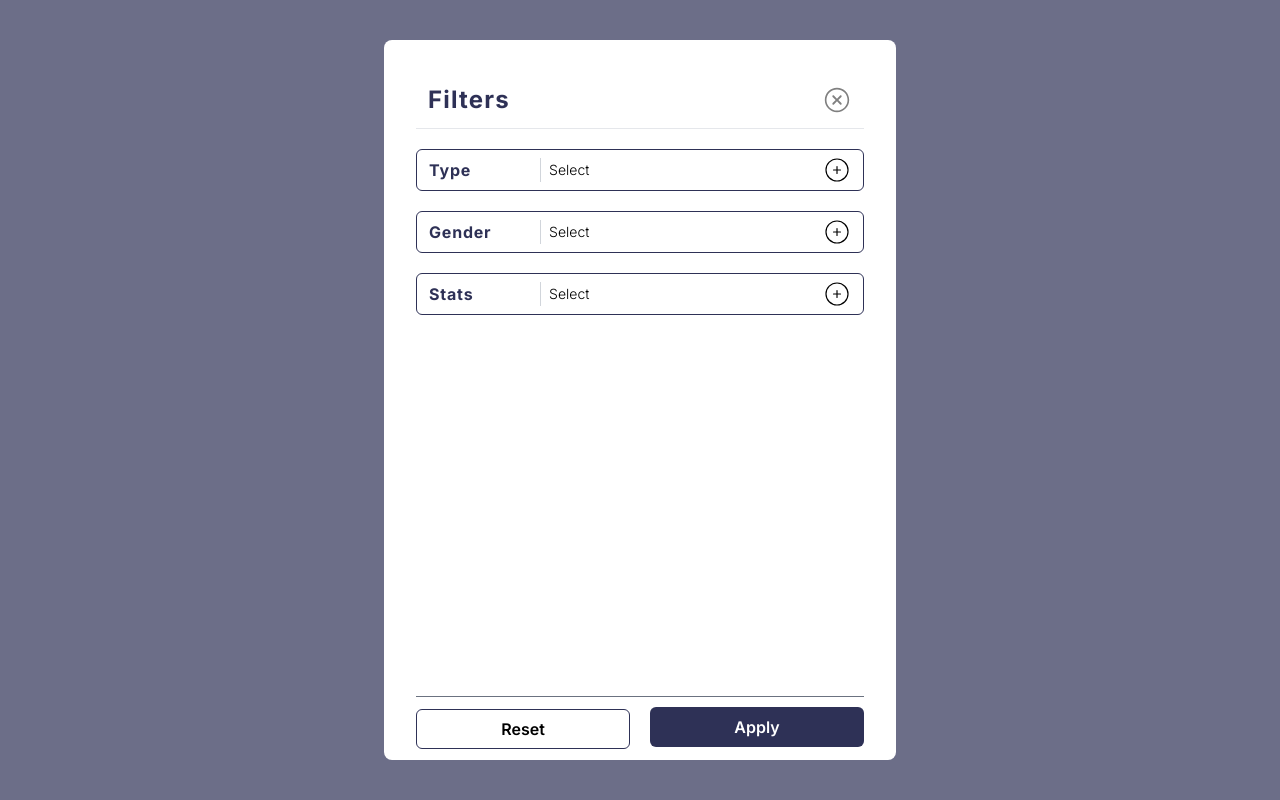
Scenario: FilterOptionsModal › toggles filter content visibility
This screenshot has width=1280, height=800.
Click the button with test id "type-button": (485, 170) [416, 149, 864, 191]
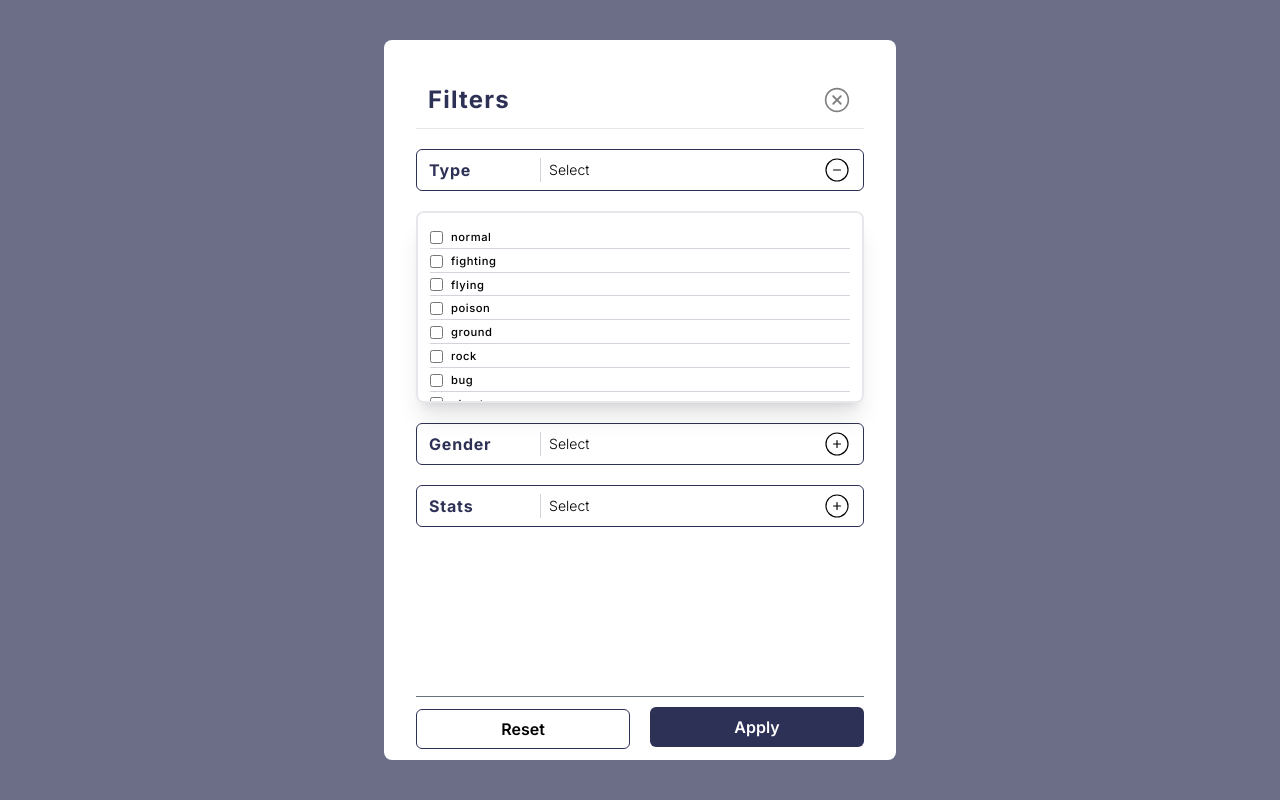
expect the element with test id "type-content" is shown: met, box [416, 211, 864, 403]
Click the button with test id "type-button": (485, 170) [416, 149, 864, 191]
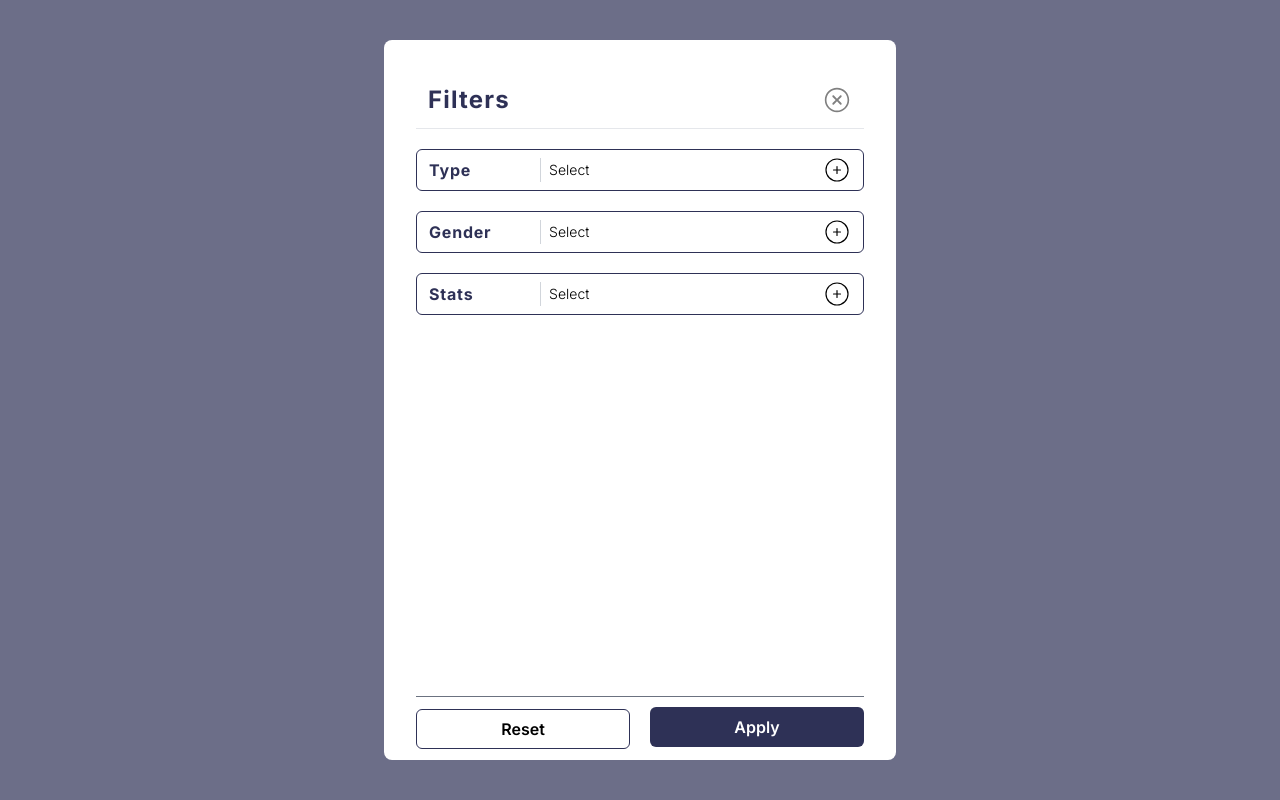
expect the element with test id "type-content" is gone: met
